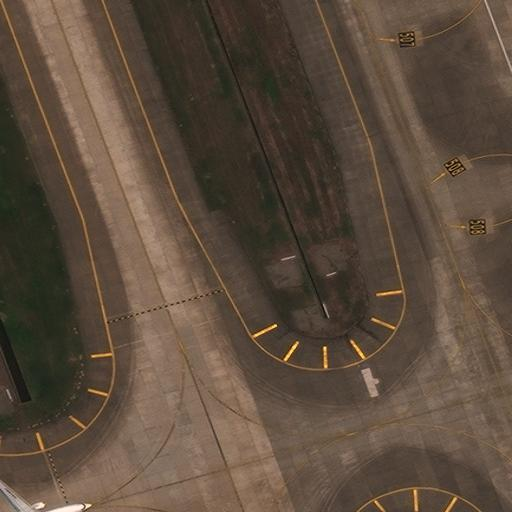Medium Civil Transport: (0, 477, 91, 511)
